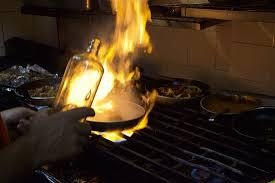fire: (56, 0, 156, 116)
